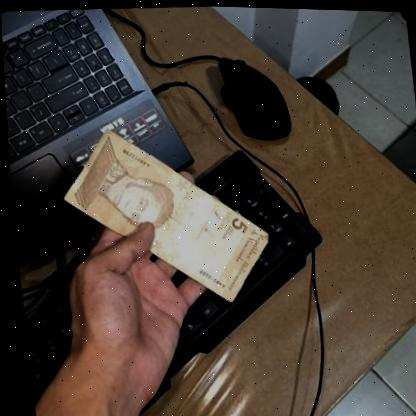five-front-vef: (53, 117, 273, 310)
